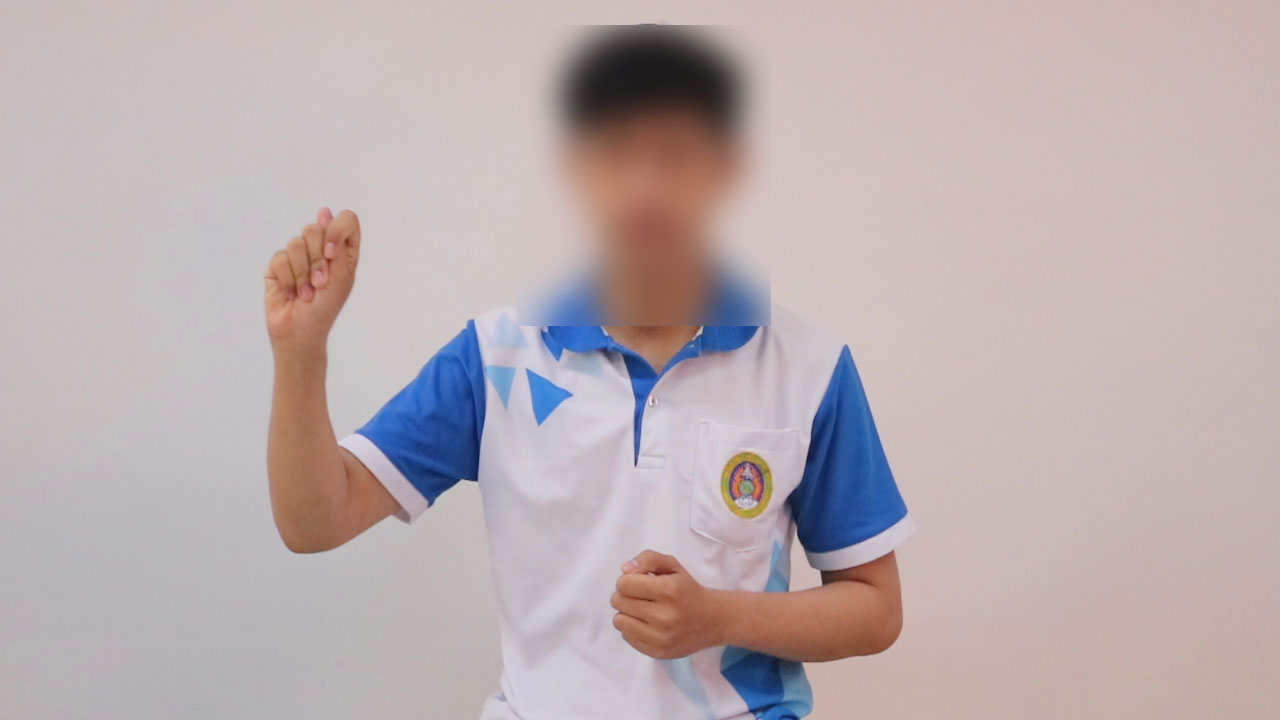tor: (243, 195, 377, 354)
